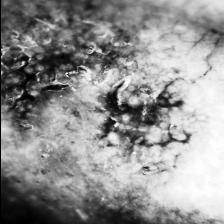Potentially Malignant Skin Tumors: (0, 17, 204, 183)
